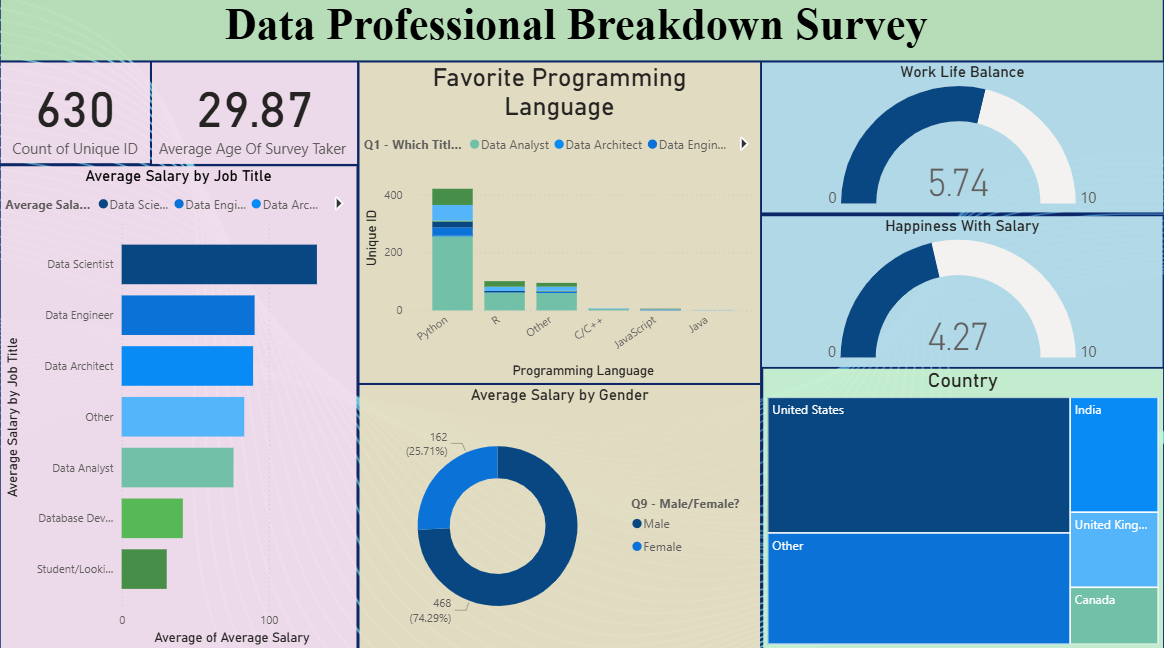

What the dashboard file says about the page in this screenshot:
{"tool":"powerbi","page":{"name":"Page 1","canvas":[1280,720],"ordinal":0},"visuals":[{"type":"textbox","box":[10,0,1264.4,71.1],"z":0},{"type":"card","fields":{"Values":["CountNonNull(Data Professional Survey.Unique ID)"]},"box":[9.7,73.5,162.1,109.4],"z":1},{"type":"card","fields":{"Values":["Avg(Data Professional Survey.Q10 - Current Age)"]},"box":[174.4,73.3,223.3,110],"z":2},{"type":"barChart","title":"Average Salary by Job Title ","fields":{"Category":["Data Professional Survey.Q1 - Which Title Best Fits your Current Role?.1"],"Y":["Avg(Data Professional Survey.Average Salary )"],"Series":["Data Professional Survey.Q1 - Which Title Best Fits your Current Role?.1"]},"box":[10,186,387,526],"z":3},{"type":"columnChart","title":"Favorite Programming Language","fields":{"Category":["Data Professional Survey.Q5 - Favorite Programming Language.1.1.1.1.1"],"Y":["CountNonNull(Data Professional Survey.Unique ID)"],"Series":["Data Professional Survey.Q1 - Which Title Best Fits your Current Role?.1"]},"box":[400,72.9,435.7,348.6],"z":4},{"type":"treemap","title":"Country","fields":{"Group":["Data Professional Survey.Q11 - Which Country do you live in?.1"],"Values":["Sum(Data Professional Survey.Q10 - Current Age)"]},"box":[839.2,406.7,435,305],"z":5},{"type":"gauge","title":"Work Life Balance","fields":{"Y":["Avg(Data Professional Survey.Q6 - How Happy are you in your Current Position with the following? (Work/Life Balance))"],"MinValue":["Min(Data Professional Survey.Q6 - How Happy are you in your Current Position with the following? (Work/Life Balance))"],"MaxValue":["Max(Data Professional Survey.Q6 - How Happy are you in your Current Position with the following? (Work/Life Balance))"]},"box":[838.6,73.6,436.4,163.6],"z":6},{"type":"gauge","title":"Happiness With Salary","fields":{"Y":["Avg(Data Professional Survey.Q6 - How Happy are you in your Current Position with the following? (Salary))"],"MinValue":["Min(Data Professional Survey.Q6 - How Happy are you in your Current Position with the following? (Salary))"],"MaxValue":["Max(Data Professional Survey.Q6 - How Happy are you in your Current Position with the following? (Salary))1"]},"box":[838.3,240.6,436.1,163.9],"z":7},{"type":"donutChart","title":"Average Salary by Gender","fields":{"Category":["Data Professional Survey.Q9 - Male/Female?"],"Y":["CountNonNull(Data Professional Survey.Q3 - Current Yearly Salary (in USD))"]},"box":[400,425,435.8,286.7],"z":8}]}

Visuals, with their boxes in screenshot pixels (x1, y1, x2, y2), scaled from the page's 1280x720 canvas onto the 1164x648 screenshot:
textbox: <box>9,0,1159,64</box>
card - CountNonNull(Data Professional Survey.Unique ID): <box>9,66,156,165</box>
card - Avg(Data Professional Survey.Q10 - Current Age): <box>159,66,362,165</box>
"Average Salary by Job Title " barChart: <box>9,167,361,641</box>
"Favorite Programming Language" columnChart: <box>364,66,760,379</box>
"Country" treemap: <box>763,366,1159,641</box>
"Work Life Balance" gauge: <box>763,66,1159,213</box>
"Happiness With Salary" gauge: <box>762,217,1159,364</box>
"Average Salary by Gender" donutChart: <box>364,382,760,641</box>
